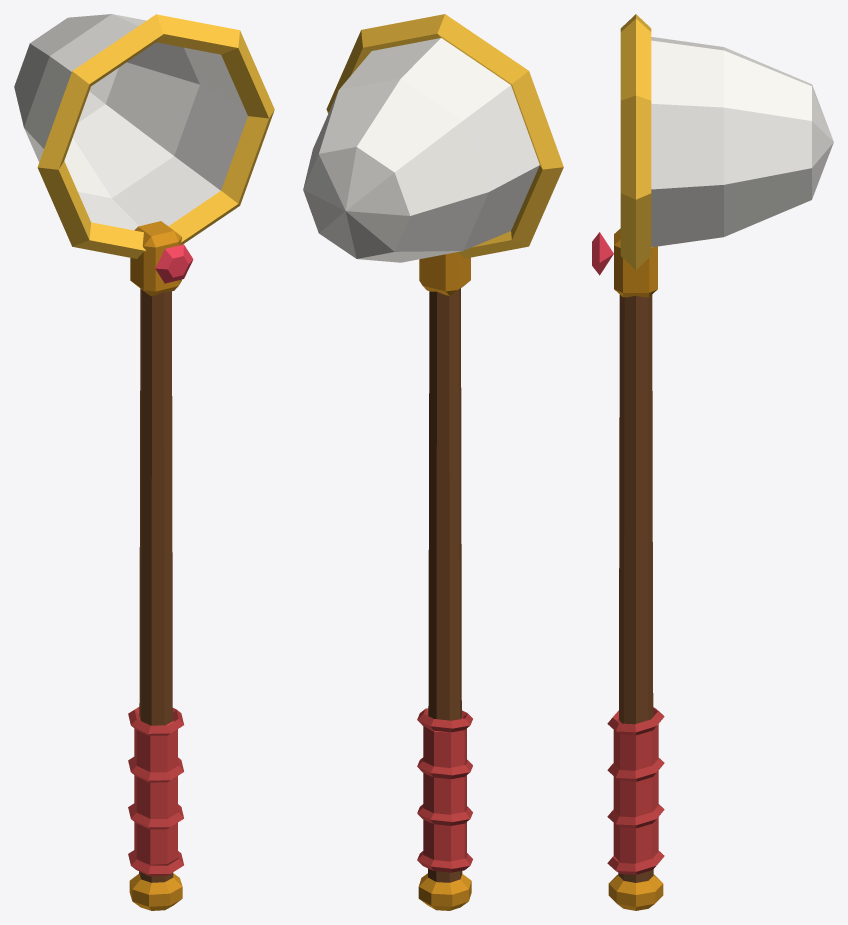
File: GoldBugNet.fbx
3 renders of one model, left to right at view 1: azimuth 30°, elevation 25°; view 2: azimuth 150°, elevation 25°; view 3: azimuth 270°, elevation 25°, orthographic.
Parts seen in each view (by area): view 1: GoldBugNet; view 2: GoldBugNet; view 3: GoldBugNet.
Boxes of the visible parts, x1,y1,x2,y2 form: GoldBugNet: [14, 14, 274, 910]; GoldBugNet: [303, 14, 563, 910]; GoldBugNet: [592, 14, 833, 910].
Bounding box in the file's own units: 1.24 × 4.44 × 1.1.
Materials: 1 (1 with a texture image).
